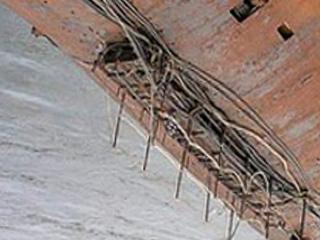rust: (237, 1, 319, 117), (11, 3, 117, 51), (299, 128, 320, 196), (284, 217, 314, 240)
